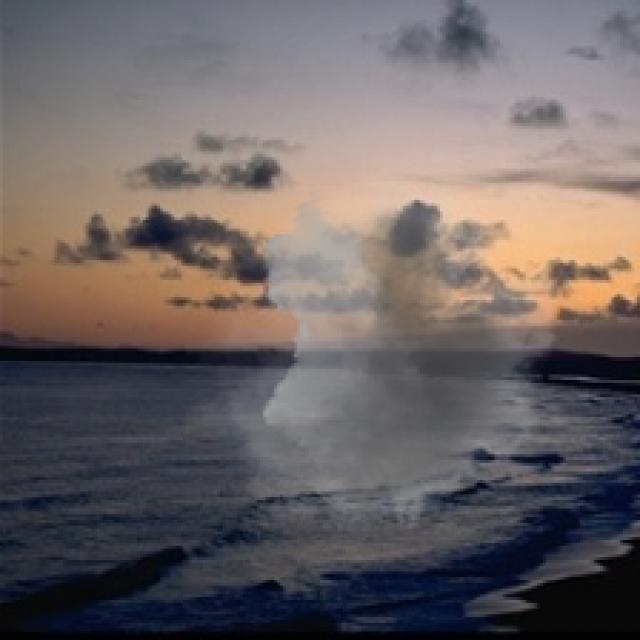Smoke: (182, 177, 578, 543)
